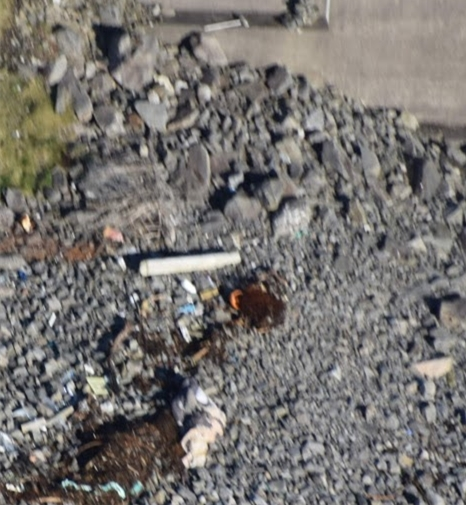scattered_barrel: (10, 204, 134, 285)
straight_bar: (129, 242, 251, 287)
together_barrel: (70, 213, 288, 497)
